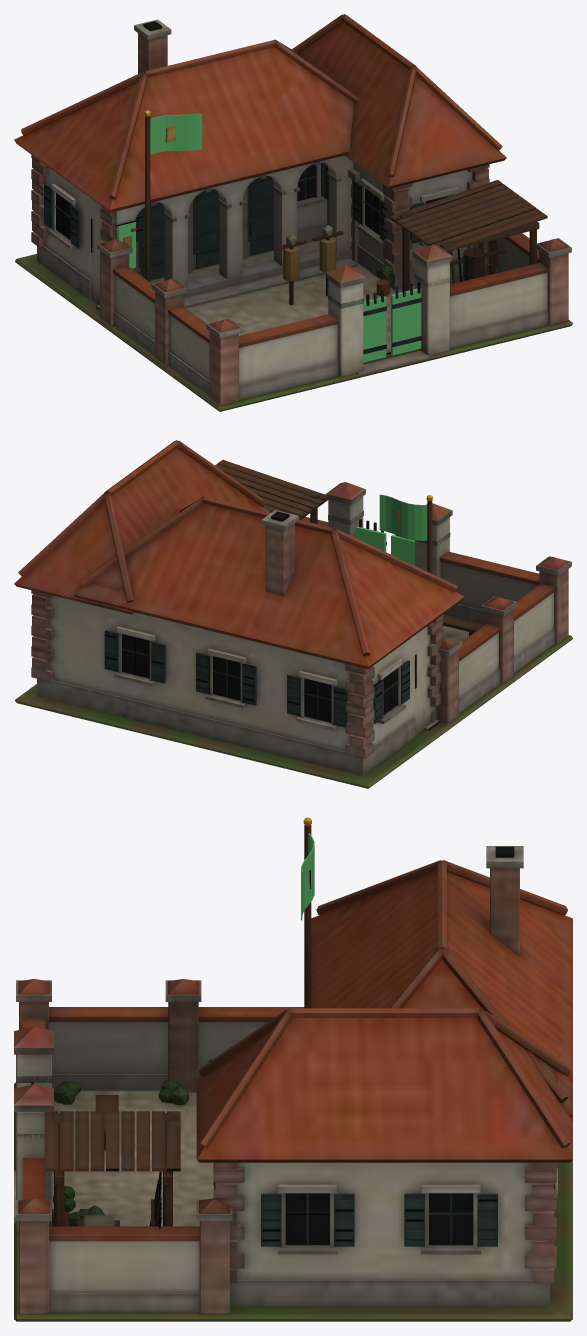
File: quartel-do-aco-v01.glb
3 renders of one model, top to bottom at view 1: azimuth 30°, elevation 25°; view 2: azimuth 150°, elevation 25°; view 3: azimuth 270°, elevation 25°, orthographic. The views are drawn at different scales.
Parts seen in each view (by area): view 1: QuartelAco_LOD0, QuartelAco_Time_LOD0; view 2: QuartelAco_LOD0, QuartelAco_Time_LOD0; view 3: QuartelAco_LOD0, QuartelAco_Time_LOD0.
Boxes of the visible parts, x1,y1,x2,y2 form: QuartelAco_LOD0: (14,14,572,411); QuartelAco_Time_LOD0: (118,113,421,362); QuartelAco_LOD0: (14,440,572,788); QuartelAco_Time_LOD0: (356,494,427,565); QuartelAco_LOD0: (14,817,572,1321); QuartelAco_Time_LOD0: (301,833,314,920).
Size of the model in its own units: 7.8 by 4.8 by 7.8.
2 materials, 1 textured.
